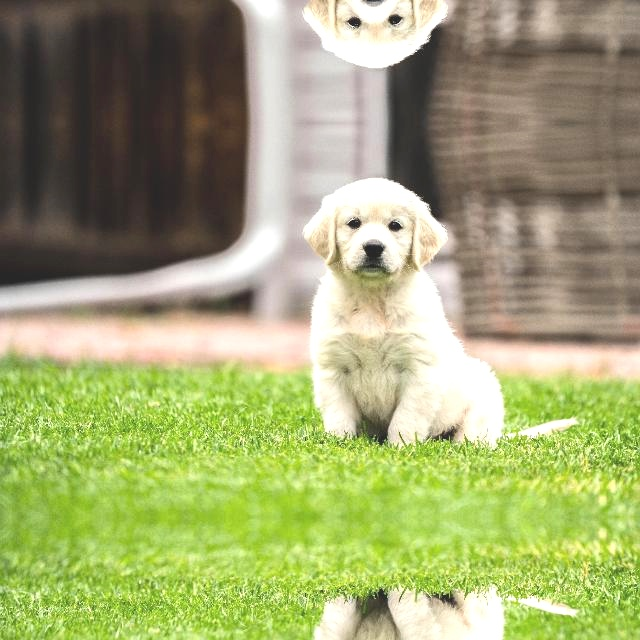dog: (308, 170, 516, 456), (309, 0, 516, 74), (309, 577, 516, 640)
